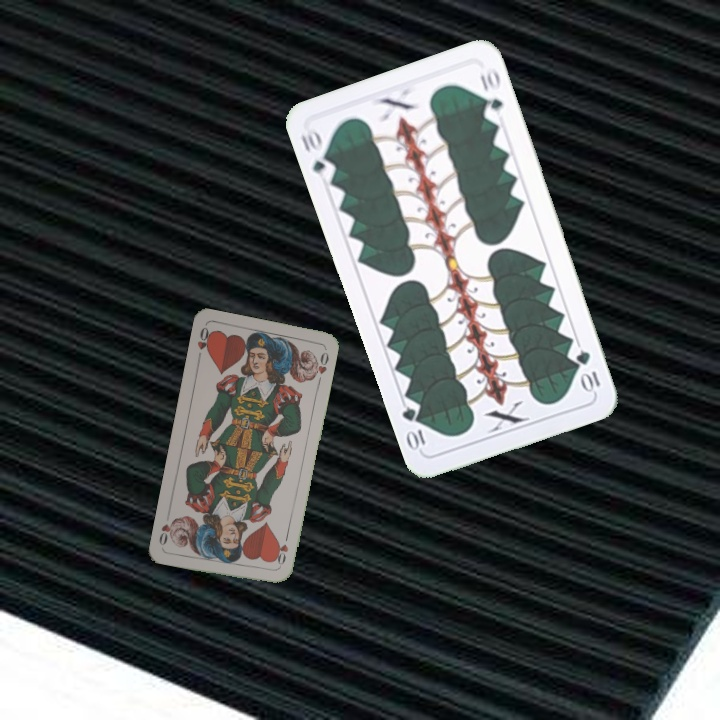G10: (296, 123, 338, 183), (572, 346, 603, 395)
HO: (193, 323, 214, 363), (273, 531, 291, 571)
